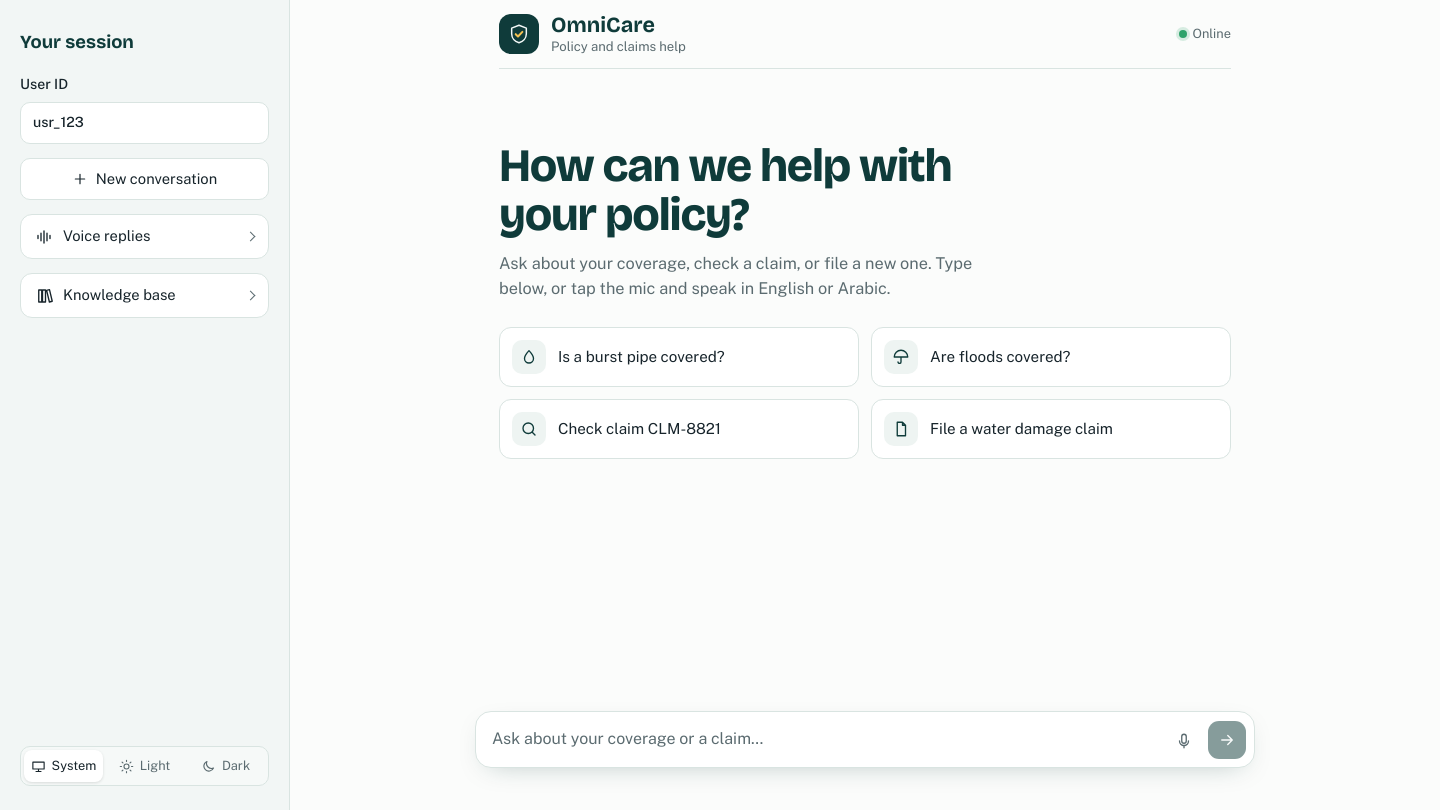
it: explains a failed transcription and adds nothing to the chat
Click the button named "Ask by voice". click: (1184, 741)
box: [1166,723,1202,759]
(page scrolled)
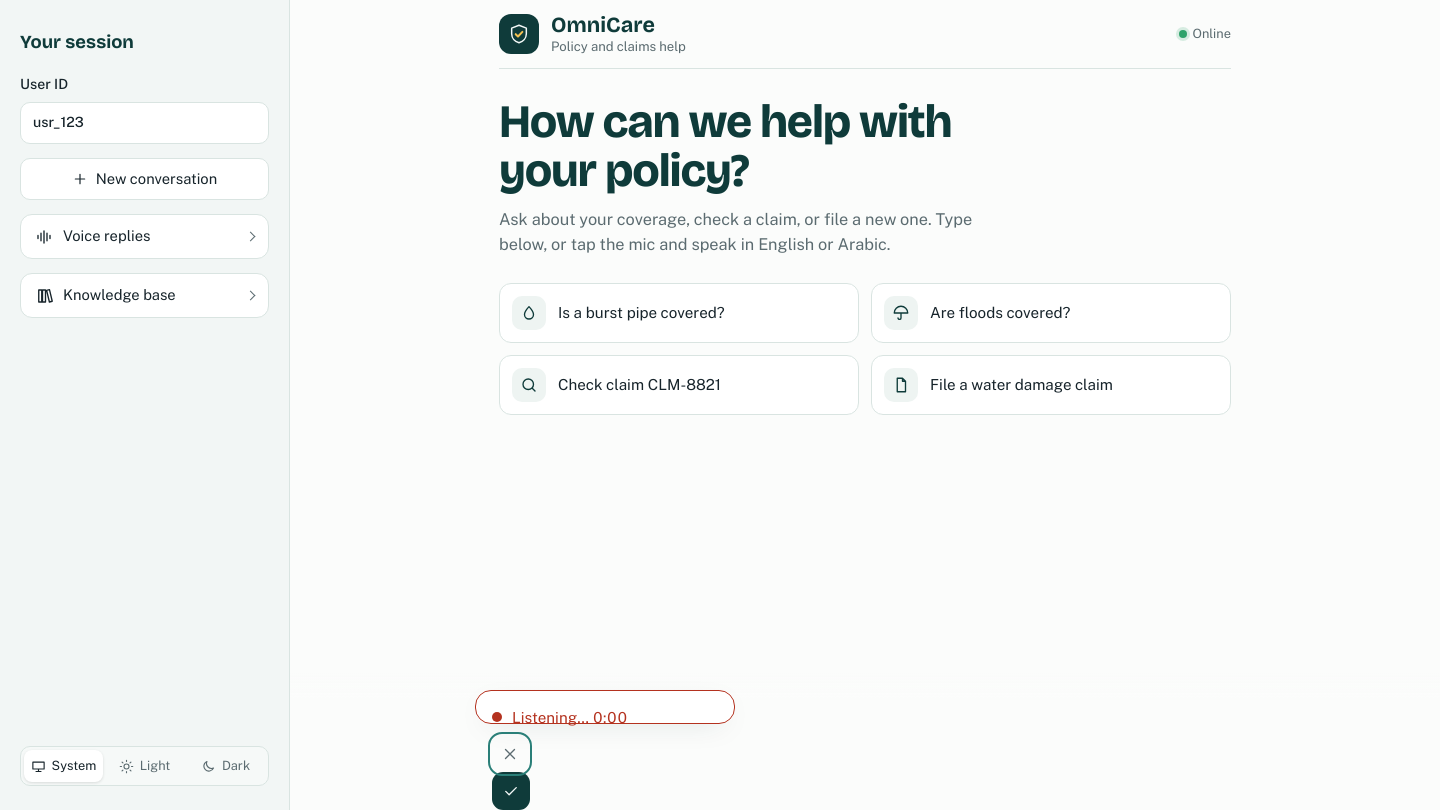
Click the button named "Send recording". click: (511, 791)
box: [492,772,530,809]
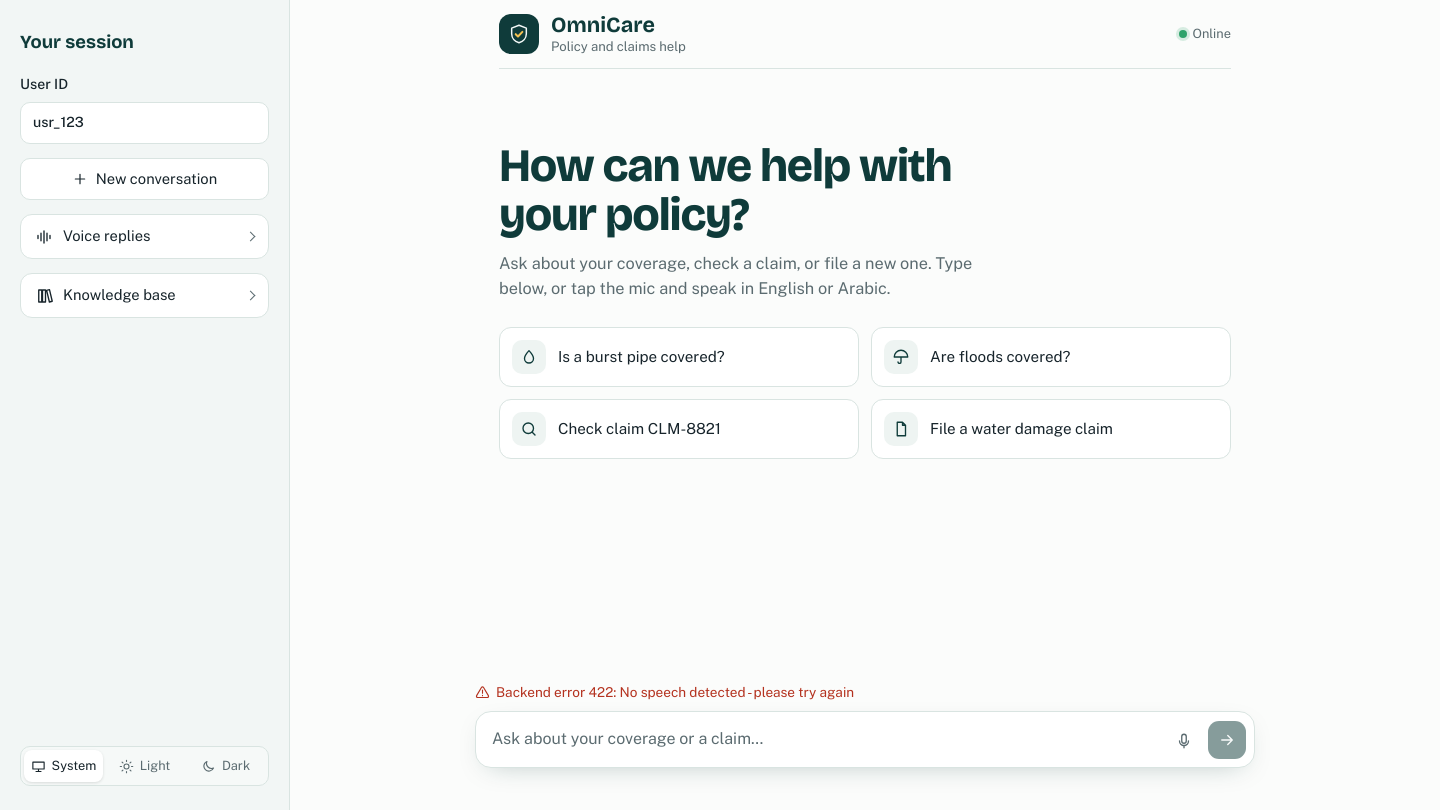
Check: the message "Backend error 422: No speech detected - please try again" is shown, box [475,684,854,700]
